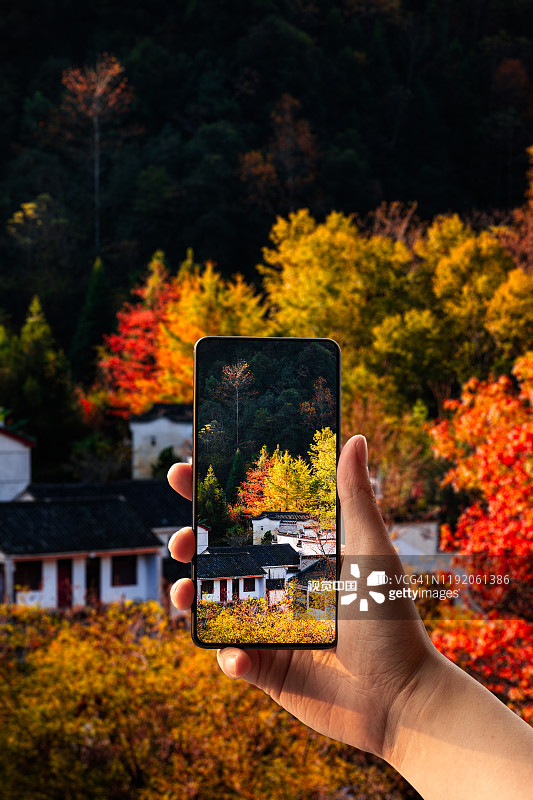taking photos: (141, 335, 475, 784)
